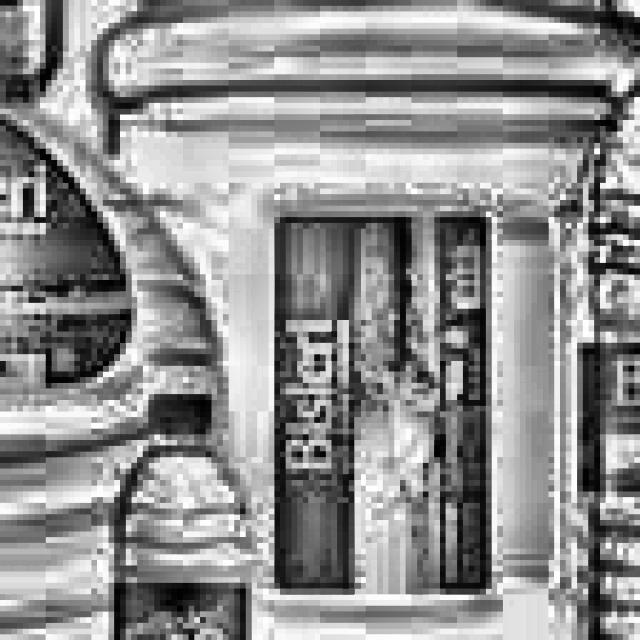bottle: (109, 434, 263, 640)
